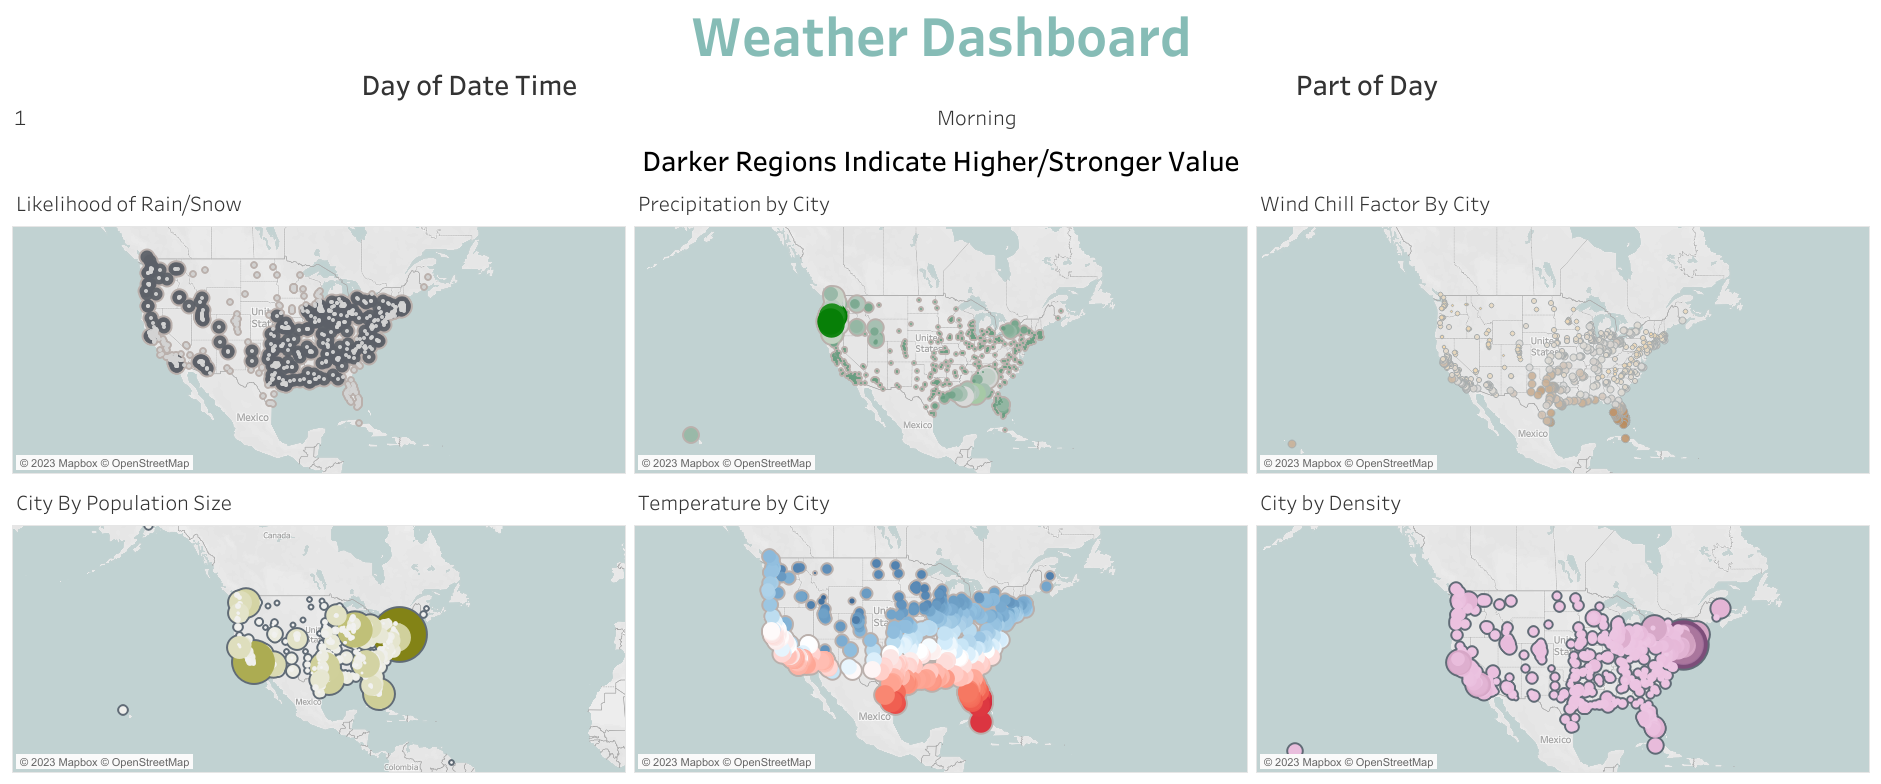

This screenshot's page, from the dashboard's own definition file:
{"tool":"tableau","page":{"name":"Weather Condition Dashboard","canvas":[1000,1000],"units":"permille","ordinal":0},"visuals":[{"type":"text","box":[4.7,8.9,990.6,67]},{"type":"filter","title":"Likelihood of Rain/Snow","param":"[federated.14fldfd1wm8adi1drekb20xs8kvn].[dy:DateTime:ok]","box":[4.7,75.9,495.3,102.7]},{"type":"filter","title":"City By Population Size","param":"[federated.14fldfd1wm8adi1drekb20xs8kvn].[none:Part_of_Day:nk]","box":[500,75.9,495.3,102.7]},{"type":"text","box":[4.7,178.6,990.6,49.1]},{"type":"worksheet","title":"Likelihood of Rain/Snow","mark":"Automatic","rows":["Latitude"],"cols":["Longitude"],"box":[4.7,227.7,330.2,381.7]},{"type":"worksheet","title":"Precipitation by City","mark":"Automatic","rows":["Latitude"],"cols":["Longitude"],"box":[334.9,227.7,330.2,381.7]},{"type":"worksheet","title":"Wind Chill Factor By City","mark":"Automatic","rows":["Latitude"],"cols":["Longitude"],"box":[665.1,227.7,330.2,381.7]},{"type":"worksheet","title":"City By Population Size","mark":"Automatic","rows":["Latitude"],"cols":["Longitude"],"box":[4.7,609.4,330.2,381.7]},{"type":"worksheet","title":"Temperature by City","mark":"Automatic","rows":["Latitude"],"cols":["Longitude"],"box":[334.9,609.4,330.2,381.7]},{"type":"worksheet","title":"City by Density","mark":"Automatic","rows":["Latitude"],"cols":["Longitude"],"box":[665.1,609.4,330.2,381.7]}]}

Visuals, with their boxes on the dashboard's canvas, which has no fixed pixel size, in thousandths of its width and height (x1, y1, x2, y2). These are canvas units, not pixel positions in the 1881x784 screenshot, which may show the page scaled, cropped or inside an application window:
text: crop(5, 9, 995, 76)
"Likelihood of Rain/Snow" filter: crop(5, 76, 500, 179)
"City By Population Size" filter: crop(500, 76, 995, 179)
text: crop(5, 179, 995, 228)
"Likelihood of Rain/Snow" worksheet: crop(5, 228, 335, 609)
"Precipitation by City" worksheet: crop(335, 228, 665, 609)
"Wind Chill Factor By City" worksheet: crop(665, 228, 995, 609)
"City By Population Size" worksheet: crop(5, 609, 335, 991)
"Temperature by City" worksheet: crop(335, 609, 665, 991)
"City by Density" worksheet: crop(665, 609, 995, 991)
